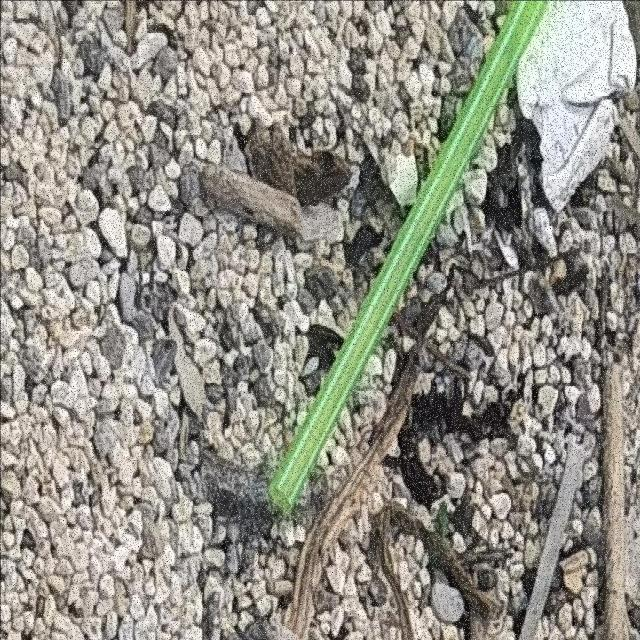plastic_waste: (267, 1, 549, 518)
